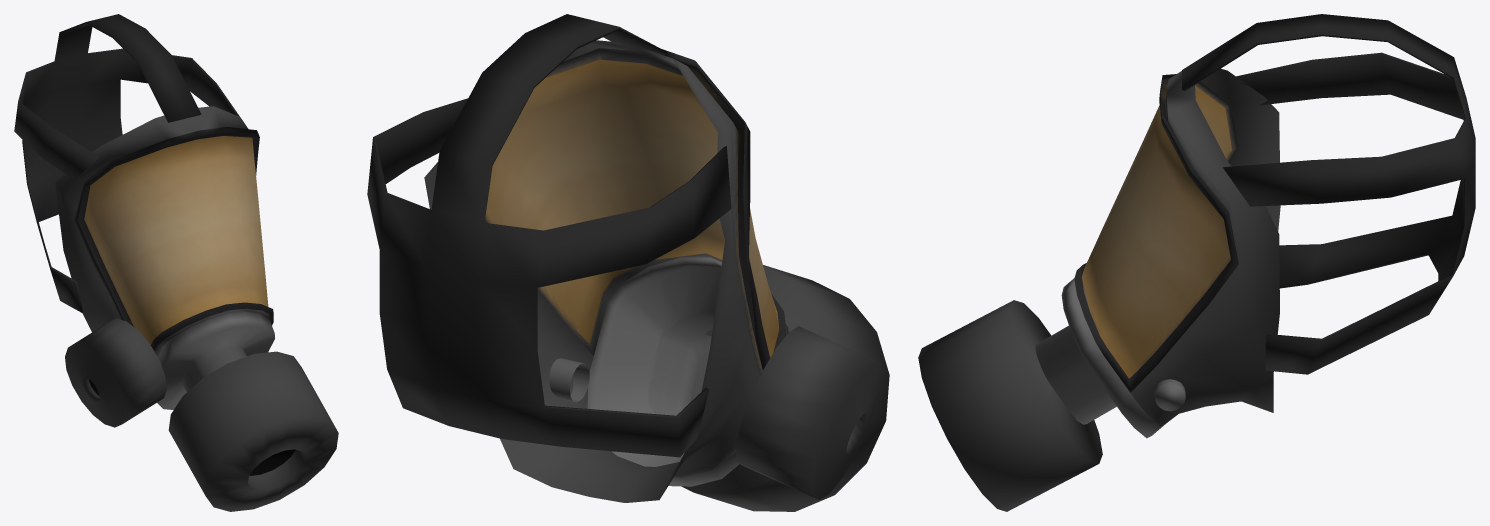
Rendered from XOFGasMaskCanister.fbx.
3 renders of one model, left to right at view 1: azimuth 30°, elevation 25°; view 2: azimuth 150°, elevation 25°; view 3: azimuth 270°, elevation 25°, orthographic. The views are drawn at different scales.
Visible parts, largest first — view 1: Plane.005_Plane.010; view 2: Plane.005_Plane.010; view 3: Plane.005_Plane.010.
Boxes of the visible parts, x1,y1,x2,y2 form: Plane.005_Plane.010: (14, 14, 338, 511); Plane.005_Plane.010: (367, 14, 889, 511); Plane.005_Plane.010: (918, 14, 1475, 511).
Bounding box in the file's own units: 0.2347 × 0.1387 × 0.2476.
